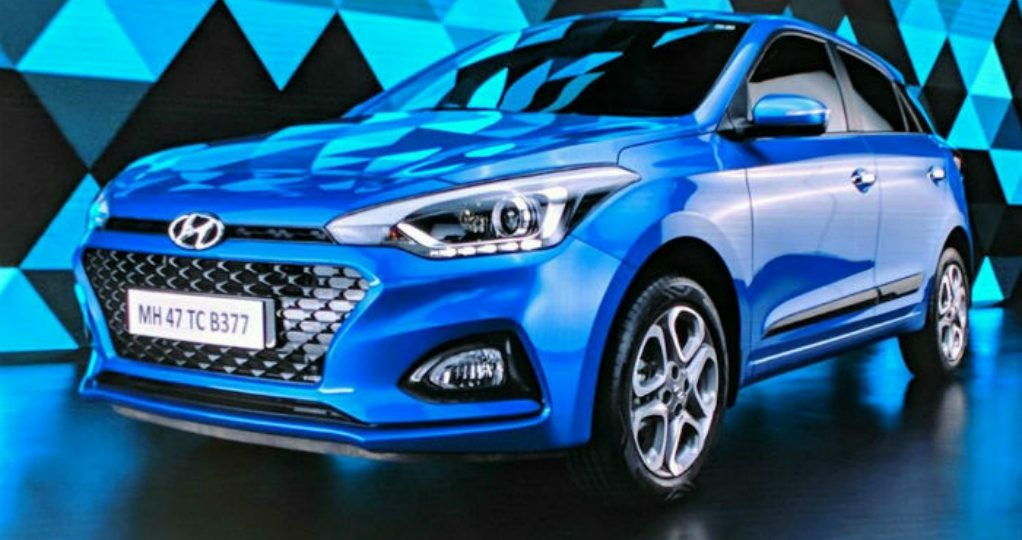i20: (67, 3, 1001, 501)
